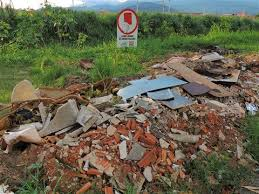rubble: (49, 75, 241, 179)
